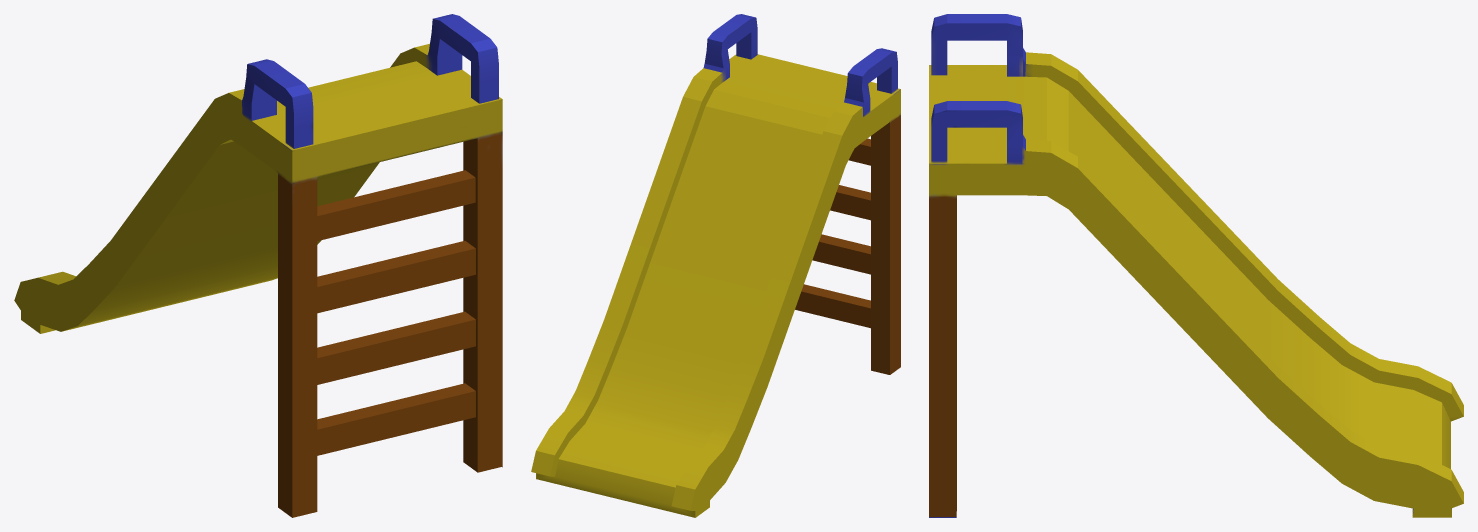
Rendered from SlideFinal.fbx.
The picture shows the model from 3 angles, left to right: view 1: azimuth 30°, elevation 25°; view 2: azimuth 150°, elevation 25°; view 3: azimuth 270°, elevation 25°; orthographic projection. The views are drawn at different scales.
Parts seen in each view (by area): view 1: pCube1; view 2: pCube1; view 3: pCube1.
Boxes of the visible parts, bbox=[...] form: pCube1: bbox=[14, 14, 502, 517]; pCube1: bbox=[531, 14, 900, 517]; pCube1: bbox=[929, 14, 1463, 517].
Bounding box in the file's own units: 2.74 × 5.25 × 6.26.
